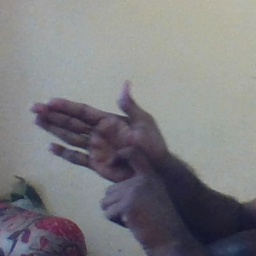R: (25, 77, 169, 228)
